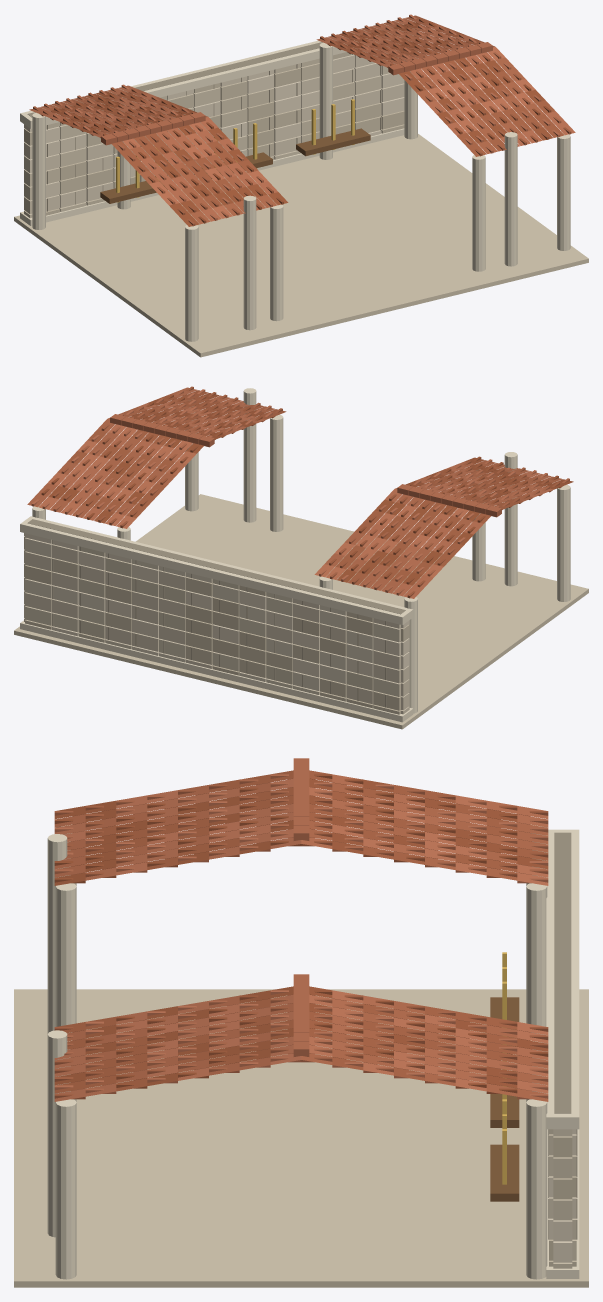
The picture shows the model from 3 angles, top to bottom: view 1: azimuth 30°, elevation 25°; view 2: azimuth 150°, elevation 25°; view 3: azimuth 270°, elevation 25°; orthographic projection. The views are drawn at different scales.
Parts seen in each view (by area): view 1: Bergfried – Steine, Säulen, Ziegel und Feuerstelle; view 2: Bergfried – Steine, Säulen, Ziegel und Feuerstelle; view 3: Bergfried – Steine, Säulen, Ziegel und Feuerstelle.
Part boxes in pixels (left/top/right/bottom): Bergfried – Steine, Säulen, Ziegel und Feuerstelle: left=14, top=14, right=588, bottom=357; Bergfried – Steine, Säulen, Ziegel und Feuerstelle: left=14, top=386, right=588, bottom=729; Bergfried – Steine, Säulen, Ziegel und Feuerstelle: left=14, top=758, right=588, bottom=1287.
Size of the model in its own units: 1202 by 445 by 990.
